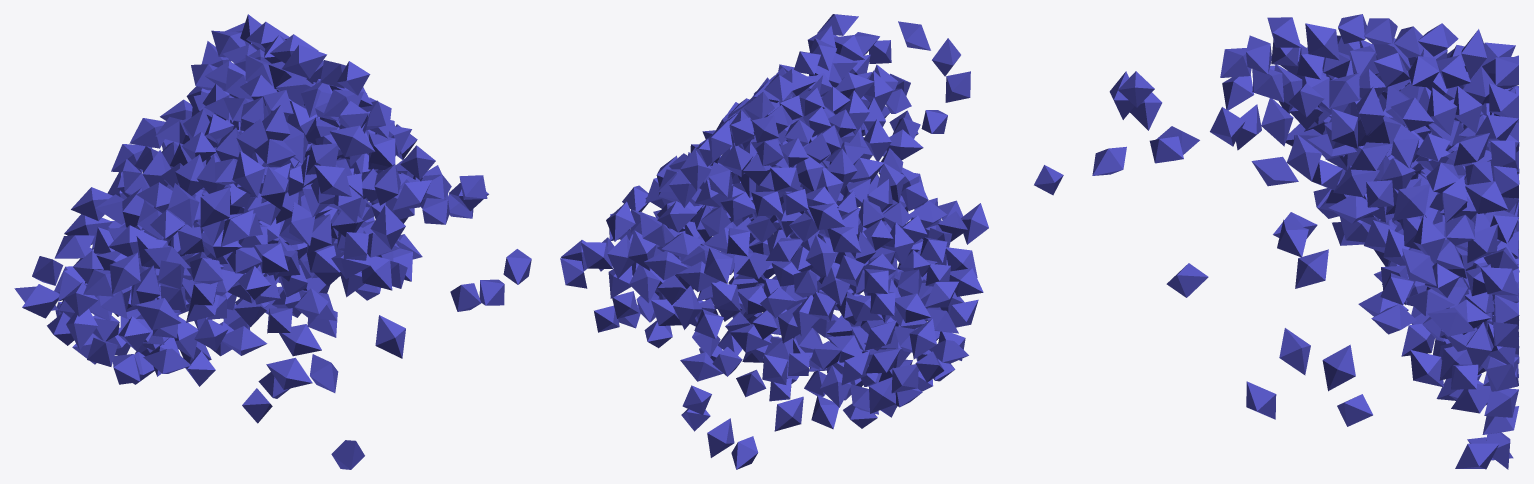
3 views of the same model, side by side, from view 1: azimuth 30°, elevation 25°; view 2: azimuth 150°, elevation 25°; view 3: azimuth 270°, elevation 25° (orthographic). The views are drawn at different scales.
Size of the model in its own units: 0.8117 by 0.7372 by 0.6429.
